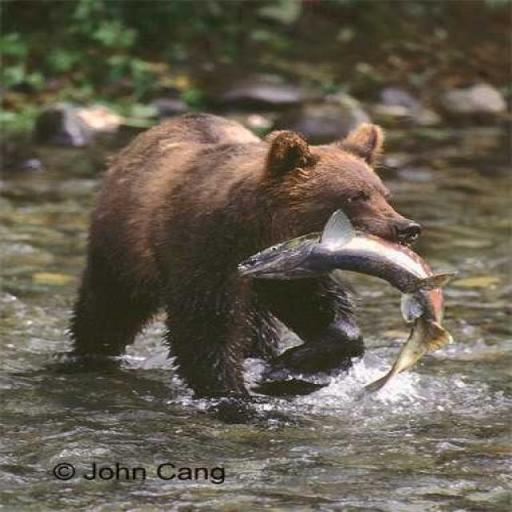Bear: (66, 112, 424, 400)
